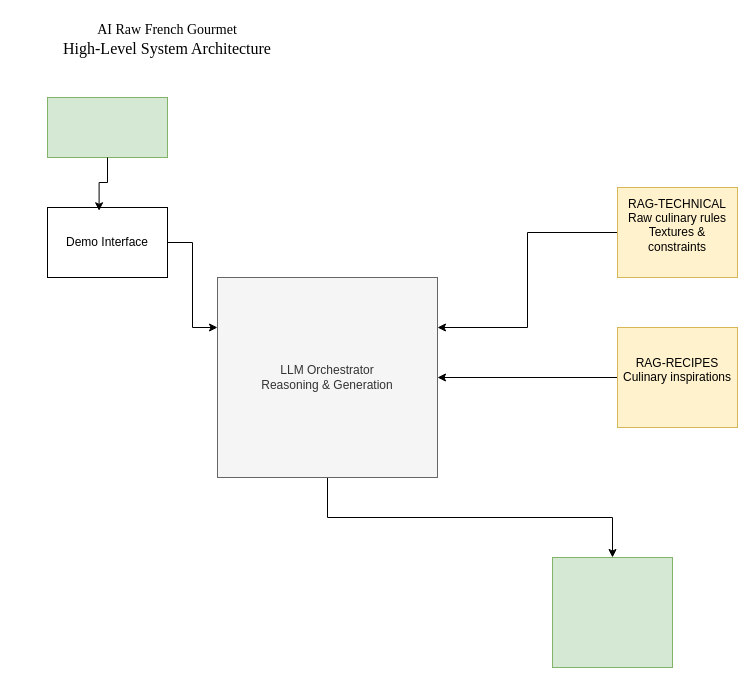
The diagram is 755 pixels wide and 685 high, and some of its shapes have lost their labels. The shapes that lost their labels are listed below. From the top down, each one's box as (x1, y1, x2, y2) in pixels, then its label:
(46, 96, 168, 158): User
(552, 556, 672, 668): Structured Recipe Output Raw, no-cook Ingredients & steps
